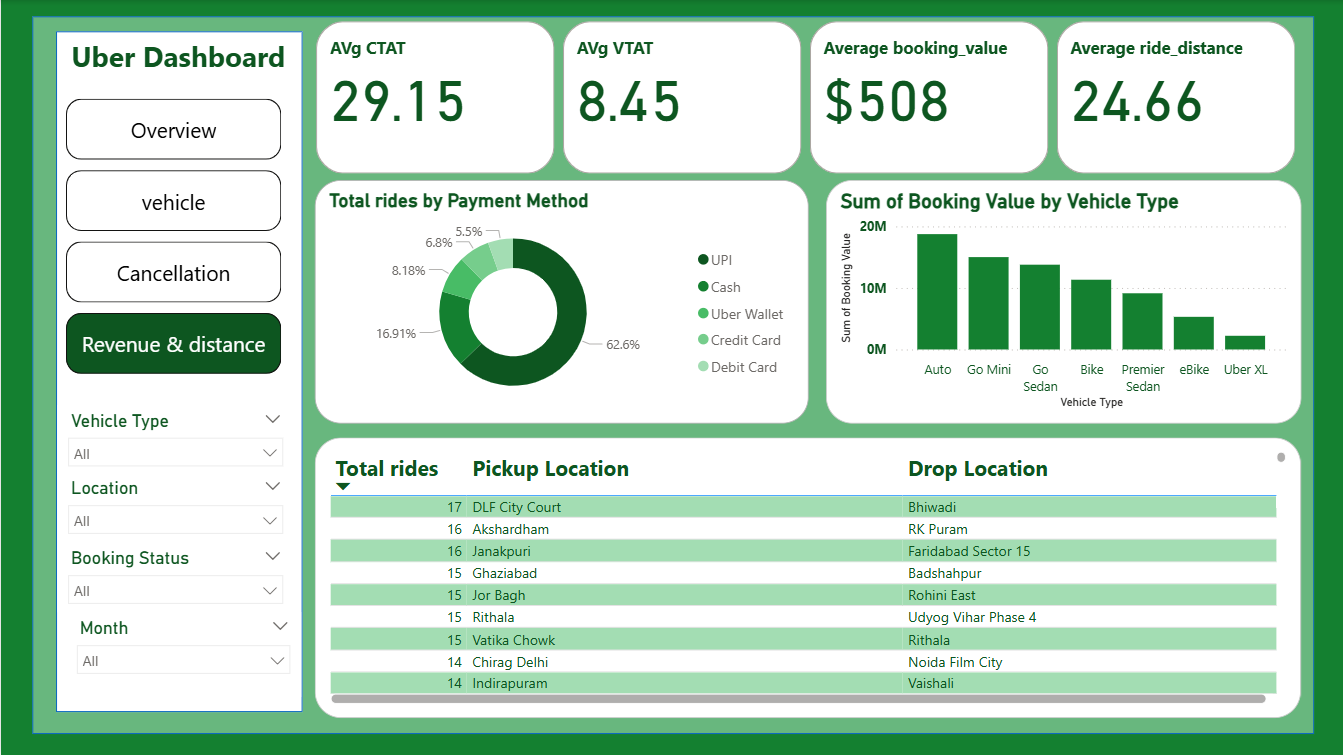

Layout of this report page (visuals, bound fields, positions):
{"tool":"powerbi","page":{"name":"Revenue & distance","canvas":[1280,720],"ordinal":3},"visuals":[{"type":"shape","box":[29.5,15.5,1220.9,683.6],"z":0},{"type":"shape","box":[52,29.5,234.9,648.4],"z":1000},{"type":"slicer","fields":{"Values":["Dim_vehicle_type.Vehicle Type"]},"box":[53.5,385.4,225.1,64.7],"z":2000},{"type":"slicer","fields":{"Values":["Dim_locations.Drop Location"]},"box":[53.5,450.1,225.1,66.1],"z":3000},{"type":"slicer","fields":{"Values":["Dim_date.Date.Variation.Date Hierarchy.Month"]},"box":[61.3,583.1,224,80.1],"z":4000},{"type":"slicer","fields":{"Values":["data.Booking Status"]},"box":[53.5,516.2,225.1,66.1],"z":5000},{"type":"textbox","title":"layout","box":[61.9,29.5,216.6,67.5],"z":6000},{"type":"pageNavigator","box":[61.9,94,206,263.1],"z":7000},{"type":"cardVisual","fields":{"Data":["Measuress.AVg CTAT","Measuress.AVg VTAT","Measuress.Average booking_value","Measuress.Average ride_distance"]},"box":[294.9,15.8,943.7,155.4],"z":8000},{"type":"donutChart","fields":{"Category":["Dim_payment_method.Payment Method"],"Y":["Measuress.Total rides"]},"box":[299.2,171.2,470.4,231.6],"z":9000},{"type":"tableEx","fields":{"Values":["Measuress.Total rides","Dim_locations.Pickup Location","Dim_locations.Drop Location"]},"box":[299.2,417.2,939.4,267.6],"z":10000},{"type":"lineStackedColumnComboChart","fields":{"Category":["Dim_vehicle_type.Vehicle Type"],"Y":["Sum(data.Booking Value)"]},"box":[785.4,171.2,453.1,231.6],"z":11000}]}

Visuals, with their boxes in screenshot pixels (x1, y1, x2, y2), scaled from the page's 1280x720 canvas onto the 1343x755 screenshot:
shape: region(31, 16, 1312, 733)
shape: region(55, 31, 301, 711)
slicer - Dim_vehicle_type.Vehicle Type: region(56, 404, 292, 472)
slicer - Dim_locations.Drop Location: region(56, 472, 292, 541)
slicer - Dim_date.Date.Variation.Date Hierarchy.Month: region(64, 611, 299, 695)
slicer - data.Booking Status: region(56, 541, 292, 611)
"layout" textbox: region(65, 31, 292, 102)
pageNavigator: region(65, 99, 281, 374)
cardVisual - Measuress.AVg CTAT x Measuress.AVg VTAT: region(309, 17, 1300, 180)
donutChart - Dim_payment_method.Payment Method x Measuress.Total rides: region(314, 180, 807, 422)
tableEx - Measuress.Total rides x Dim_locations.Pickup Location: region(314, 437, 1300, 718)
lineStackedColumnComboChart - Dim_vehicle_type.Vehicle Type x Sum(data.Booking Value): region(824, 180, 1299, 422)
